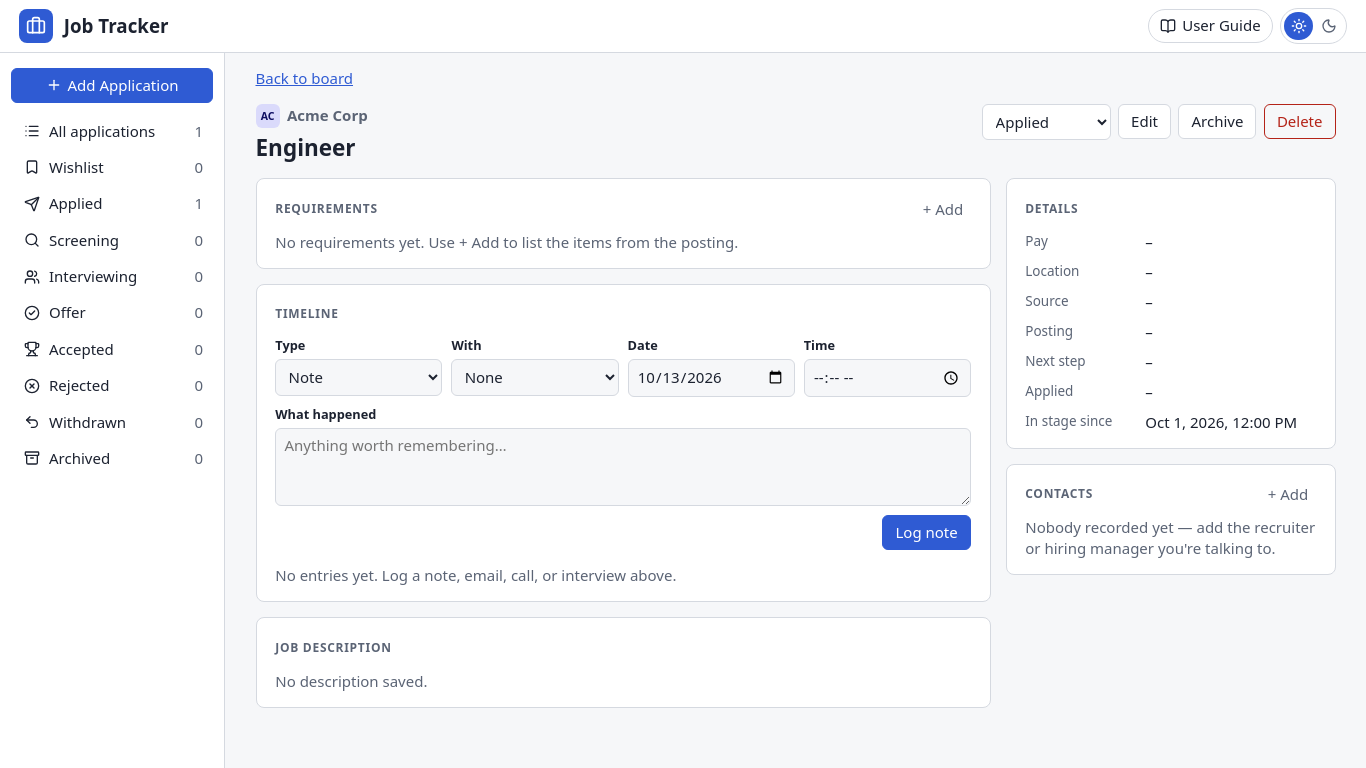
Test: the timeline › adds an entry at the top, clears the form, and sets the date back to today (AC-2)
This screenshot has width=1366, height=768.
expect the form named "Add entry" is shown: met, box 275,337 -> 971,550
expect the date field labelled "Date" holds "2026-10-13": met, box 628,359 -> 795,397
Select "Interview" in the dropdown labelled "Type" at (359, 377), box 275,359 -> 442,396
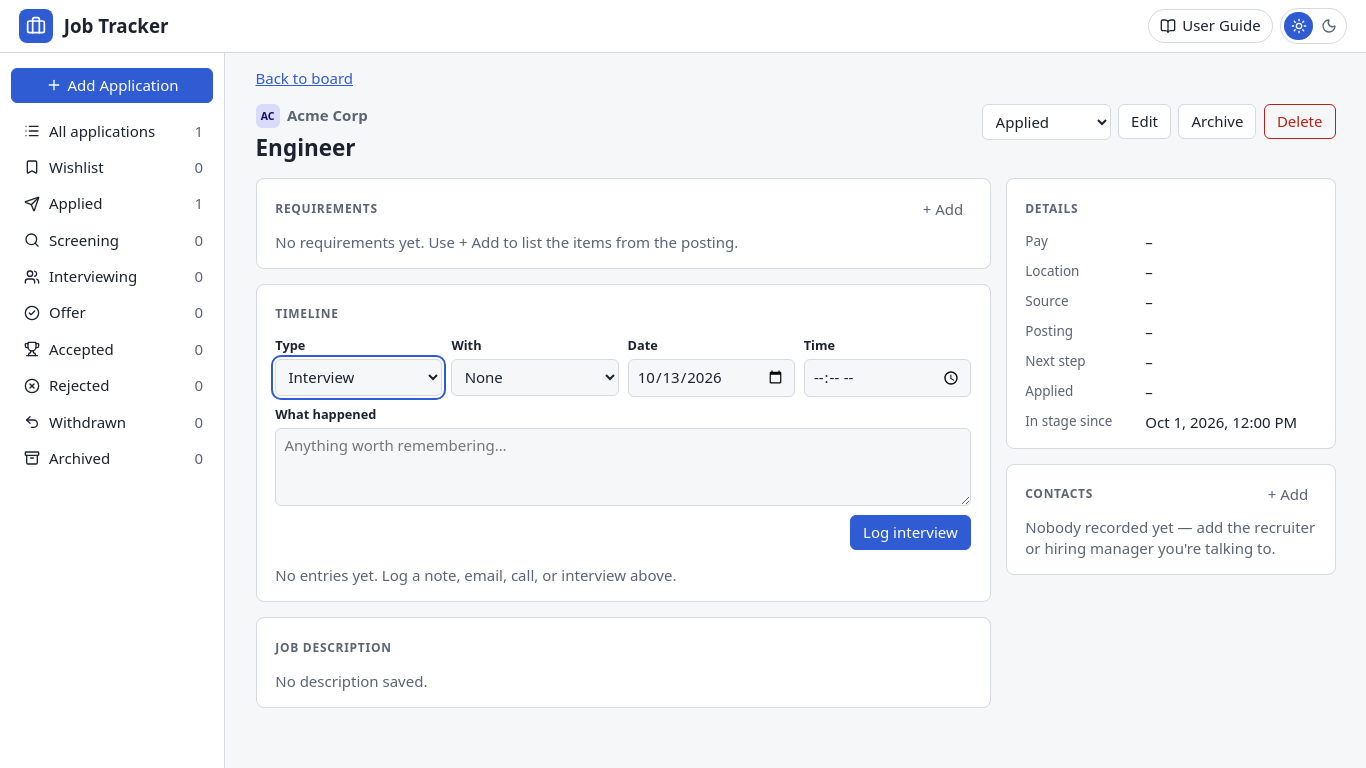
Type "2026-10-20" into the date field labelled "Date" at (711, 378), box 628,359 -> 795,397
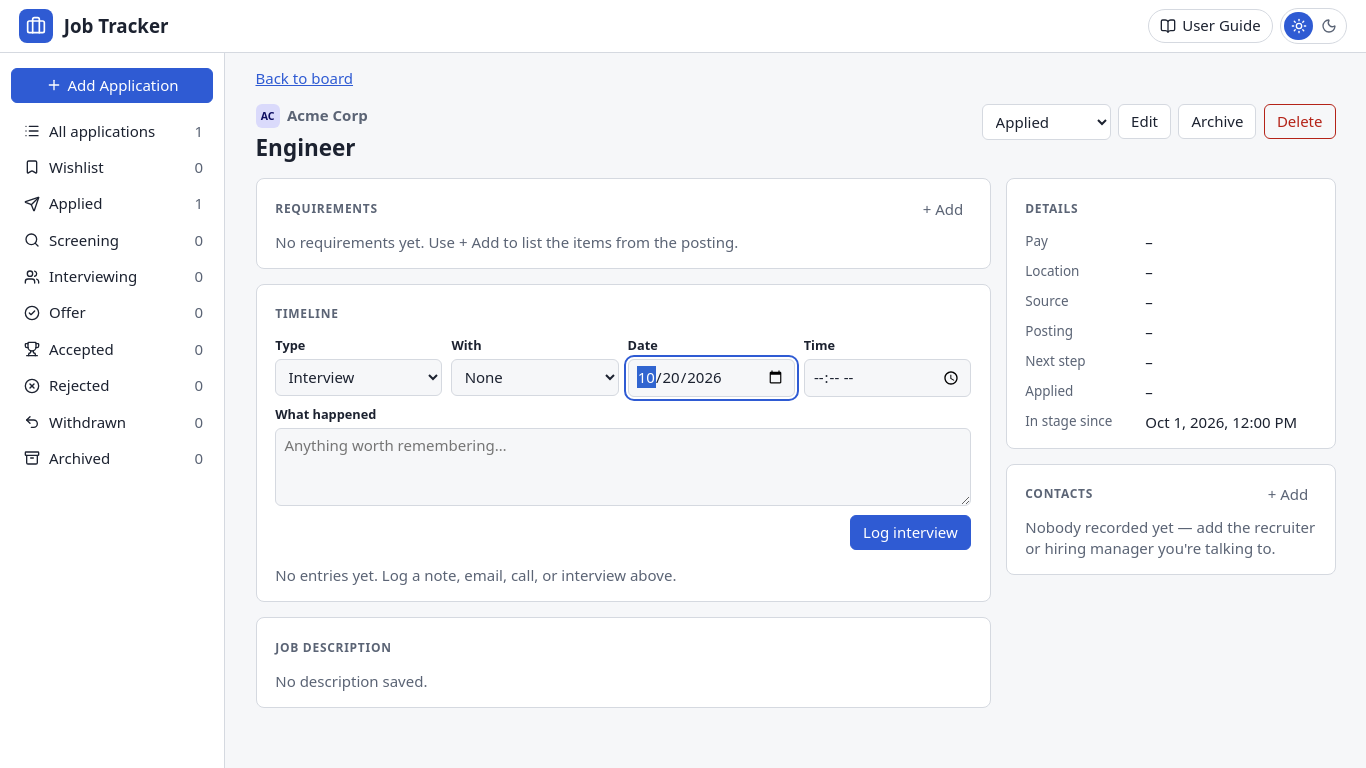
Type "Onsite with the team" into the text box labelled "What happened" at (623, 467), box 275,428 -> 971,506
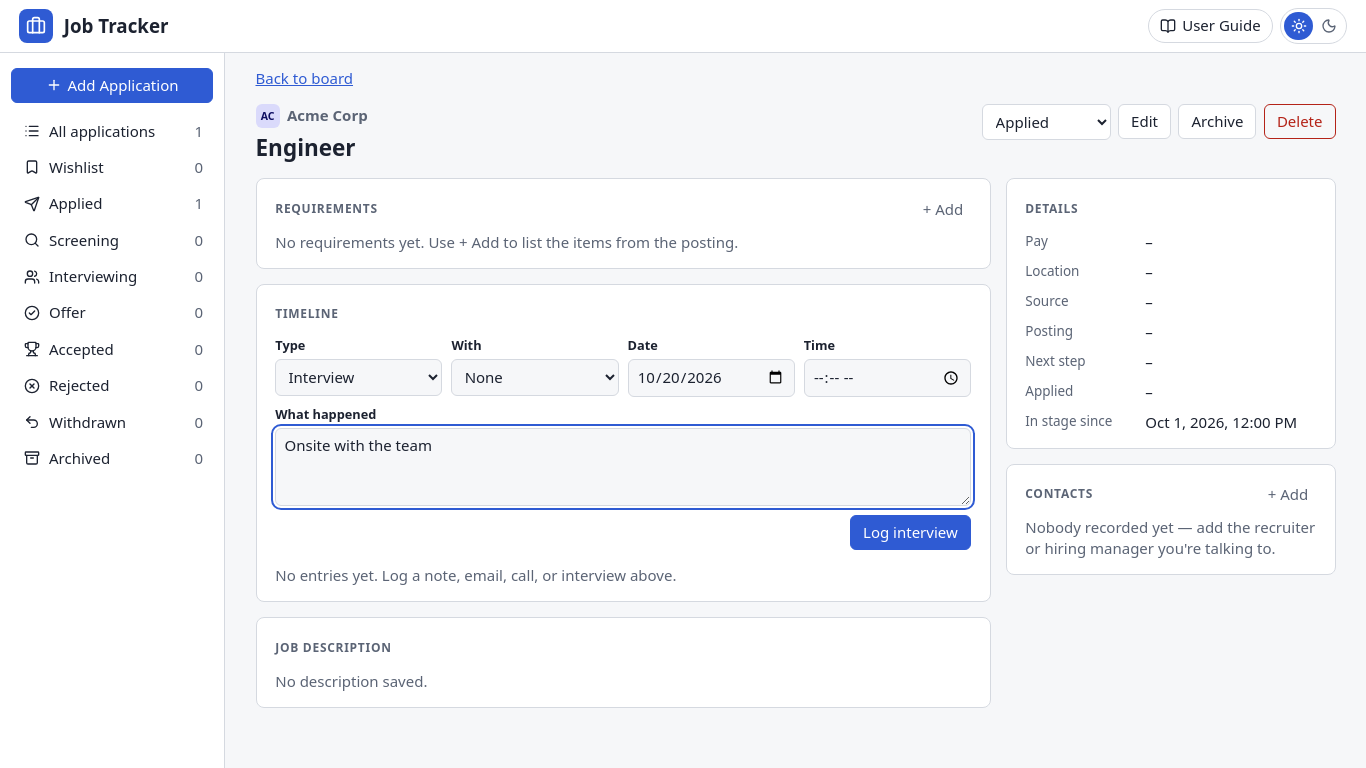
Click the button "Log interview" at (910, 533), box 850,515 -> 971,550
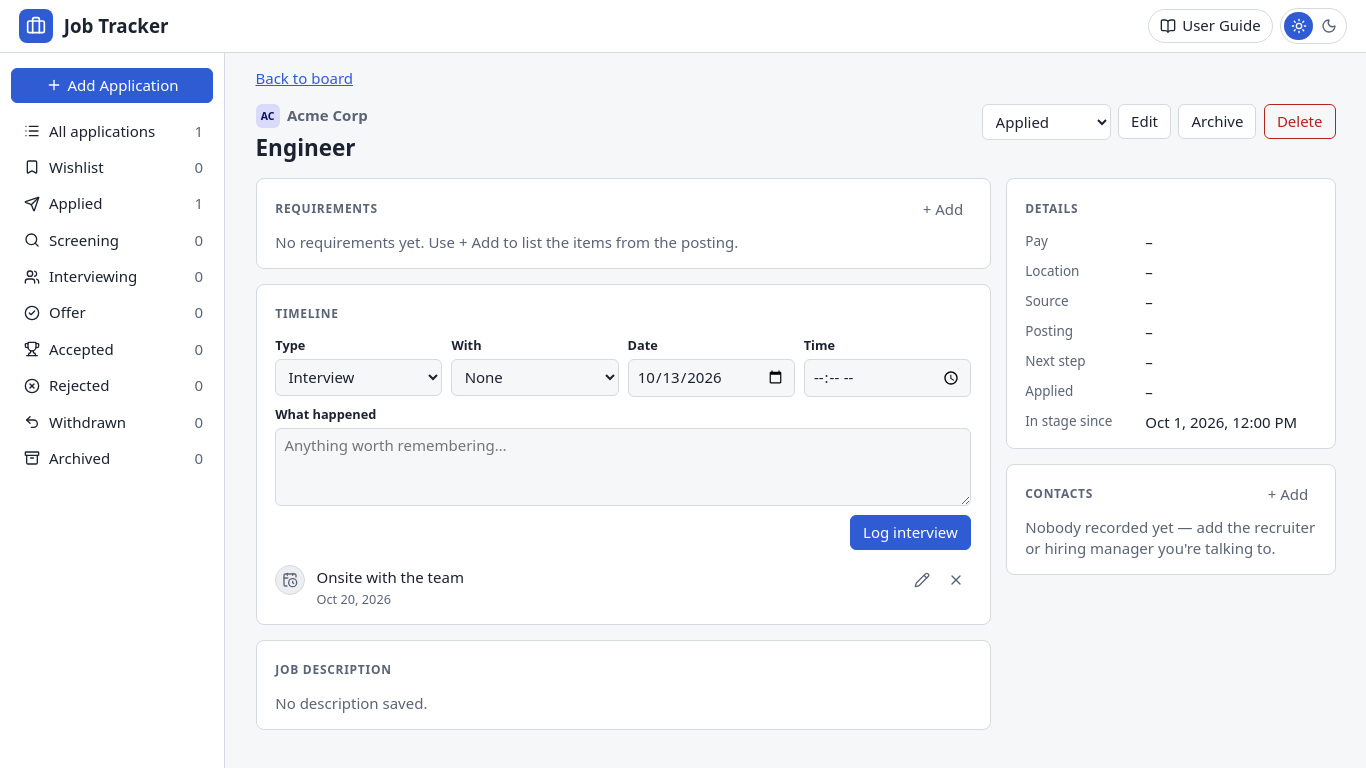
expect the list item "Onsite with the team Oct 20, 2026" is shown: met, box 275,565 -> 971,608
expect the text box labelled "What happened" is empty: met, box 275,428 -> 971,506
expect the date field labelled "Date" holds "2026-10-13": met, box 628,359 -> 795,397
